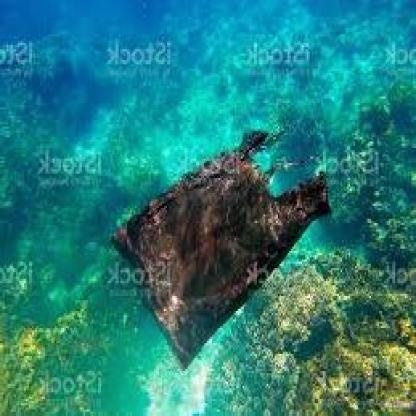pbag: (111, 129, 334, 371)
